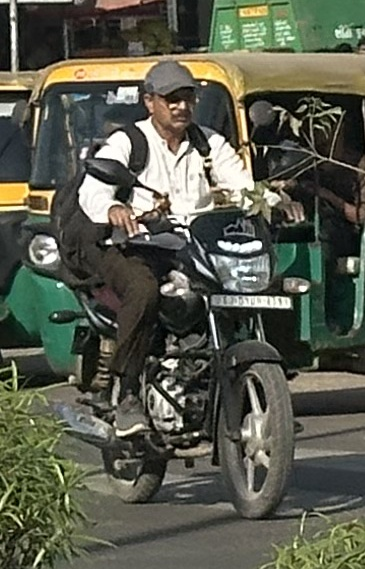BikeWithRider: (15, 53, 320, 526)
NoHelmet: (134, 55, 206, 135)
